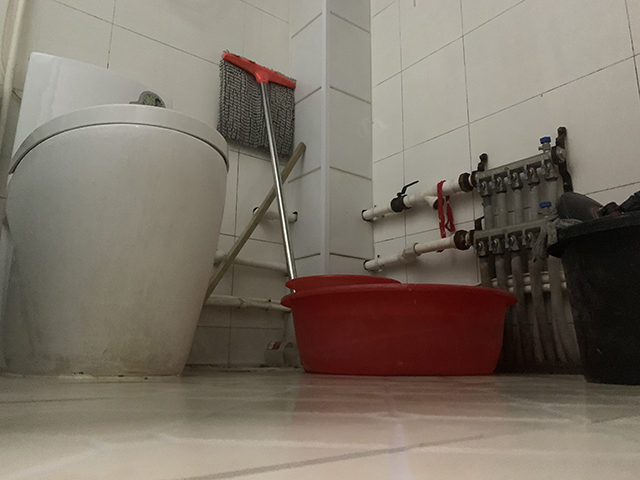closestool: (1, 49, 232, 384)
